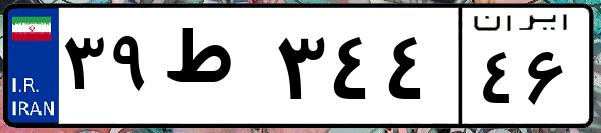3: (270, 28, 330, 110), (57, 26, 110, 100)
4: (385, 28, 445, 110), (330, 28, 385, 110), (475, 38, 525, 113)
6: (525, 38, 570, 115)
9: (110, 28, 158, 98)
ط: (158, 20, 270, 120)
